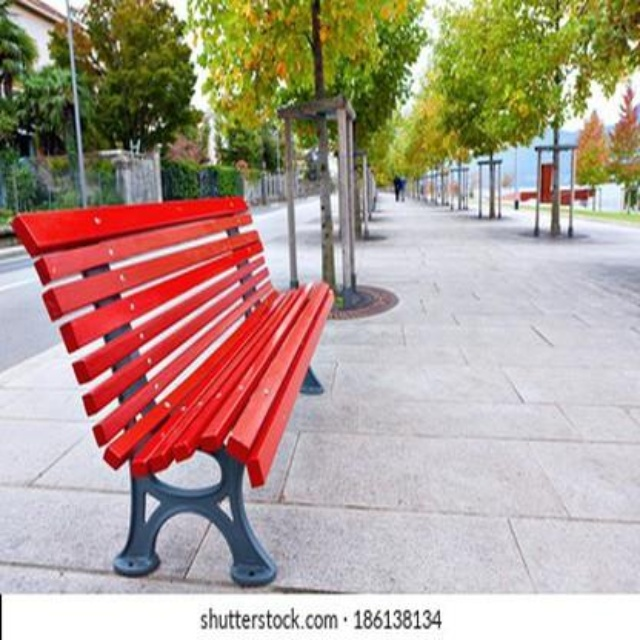obstacle: (18, 163, 331, 578)
